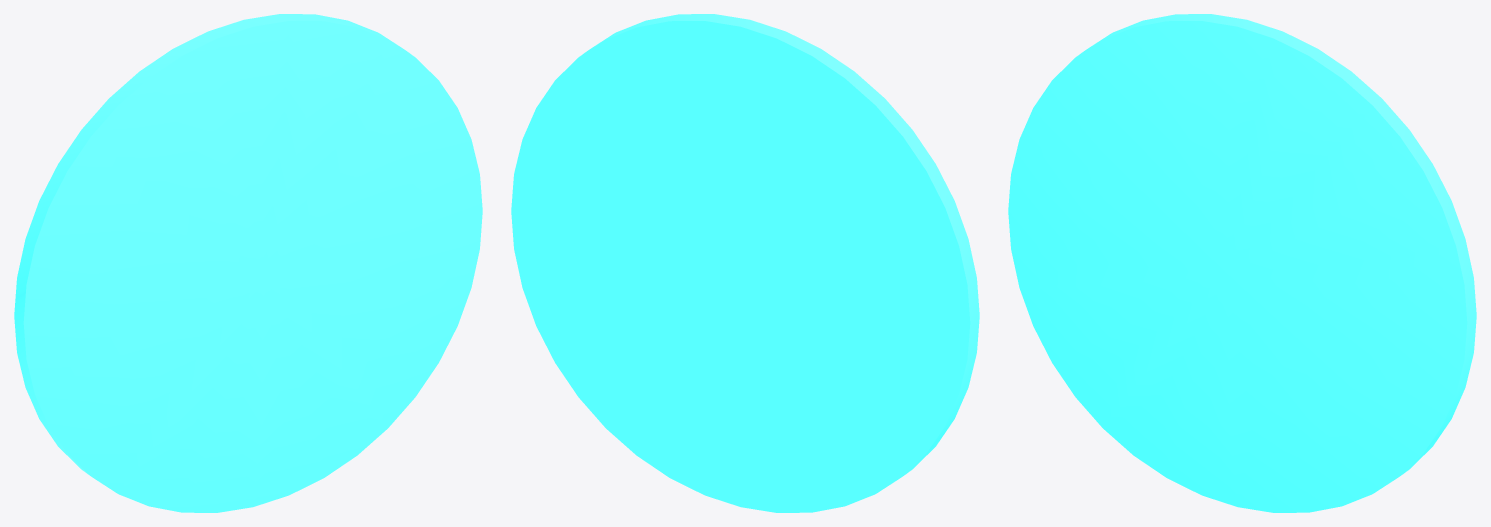
Rendered from EM_Screen.fbx.
3 renders of one model, left to right at view 1: azimuth 30°, elevation 25°; view 2: azimuth 150°, elevation 25°; view 3: azimuth 330°, elevation 25°, orthographic.
Visible parts, largest first — view 1: EM_Screen; view 2: EM_Screen; view 3: EM_Screen.
Part boxes in pixels (x1=…): EM_Screen: x1=14, y1=14, x2=482, y2=512; EM_Screen: x1=511, y1=14, x2=979, y2=512; EM_Screen: x1=1008, y1=14, x2=1476, y2=512.
Bounding box in the file's own units: 1.12 × 1.12 × 0.085.
